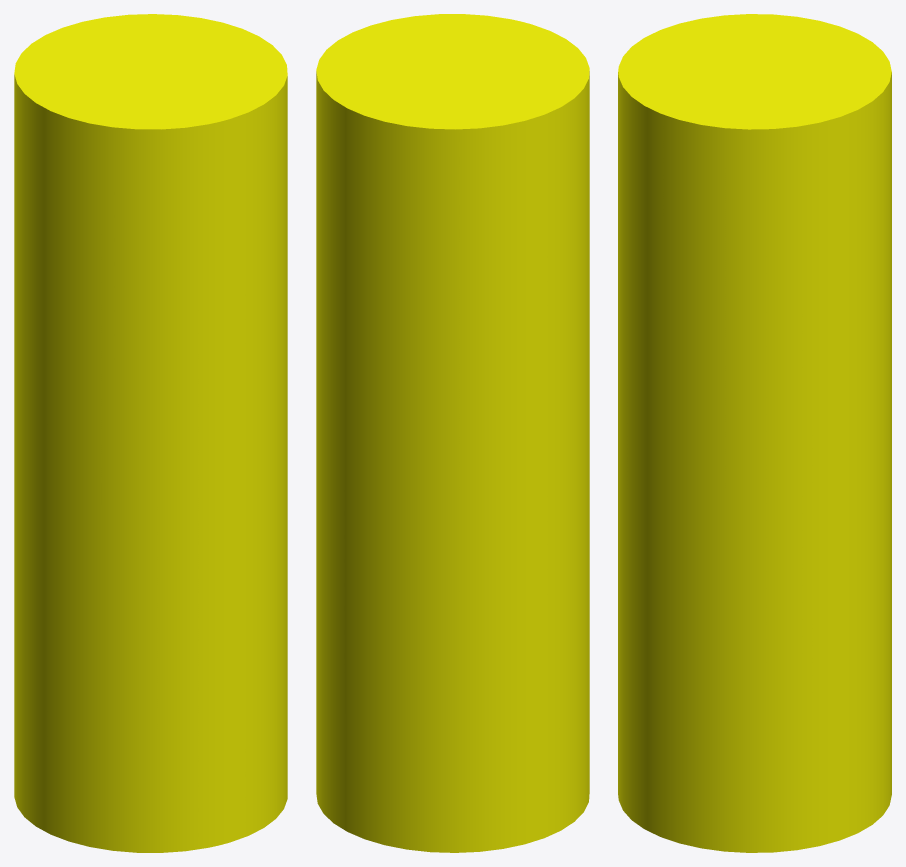
File: Shaft.obj
3 renders of one model, left to right at view 1: azimuth 30°, elevation 25°; view 2: azimuth 150°, elevation 25°; view 3: azimuth 270°, elevation 25°, orthographic.
Visible parts, largest first — view 1: mesh 1 Shaft; view 2: mesh 1 Shaft; view 3: mesh 1 Shaft.
Part boxes in pixels (x1,y1,x2,y2): mesh 1 Shaft: (14,14,287,852); mesh 1 Shaft: (316,14,589,852); mesh 1 Shaft: (618,14,891,852).
Bounding box in the file's own units: 0.012 × 0.035 × 0.012.
